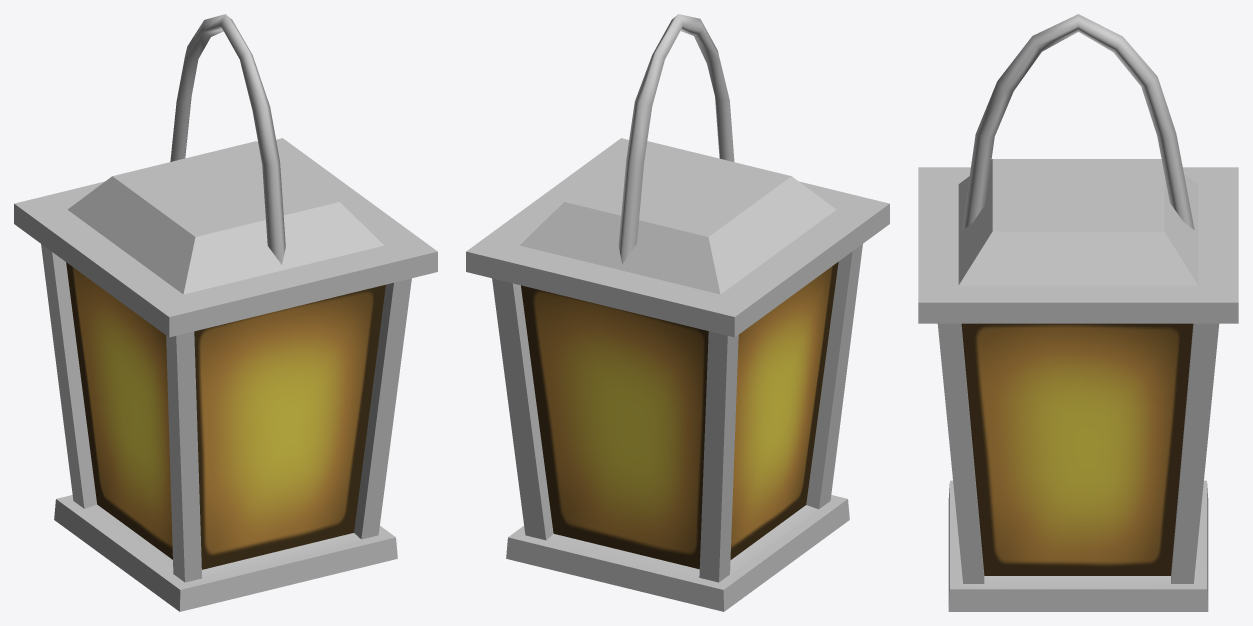
Rendered from SM_Lantern_03_B.fbx.
3 renders of one model, left to right at view 1: azimuth 30°, elevation 25°; view 2: azimuth 150°, elevation 25°; view 3: azimuth 270°, elevation 25°, orthographic. The views are drawn at different scales.
Visible parts, largest first — view 1: SM_Lantern_03_B_SM_Lantern_03_B_Mesh; view 2: SM_Lantern_03_B_SM_Lantern_03_B_Mesh; view 3: SM_Lantern_03_B_SM_Lantern_03_B_Mesh.
Boxes of the visible parts, box(x1,y1,x2,y2) form: SM_Lantern_03_B_SM_Lantern_03_B_Mesh: box(14, 14, 437, 611); SM_Lantern_03_B_SM_Lantern_03_B_Mesh: box(466, 14, 889, 611); SM_Lantern_03_B_SM_Lantern_03_B_Mesh: box(918, 14, 1238, 611).
Size of what is drawn, in the model's own units: 24.05 by 44.94 by 24.04.
